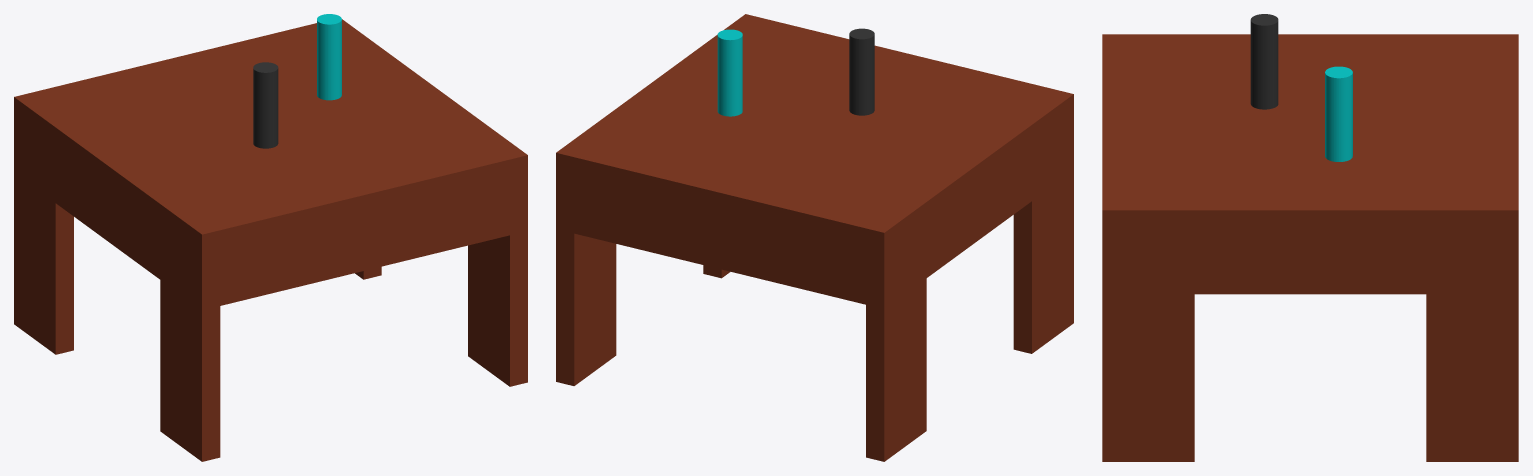
The model's file is can_world_2_cans.dae.
3 views of the same model, side by side, from view 1: azimuth 30°, elevation 25°; view 2: azimuth 150°, elevation 25°; view 3: azimuth 270°, elevation 25° (orthographic). The views are drawn at different scales.
Visible parts, largest first — view 1: base (×6); view 2: base (×6); view 3: base (×5).
Boxes of the visible parts, bbox=[...] form: base (×6): bbox=[14, 14, 527, 461]; base (×6): bbox=[556, 14, 1073, 461]; base (×5): bbox=[1102, 14, 1518, 461].
Bounding box in the file's own units: 0.9 × 0.9 × 0.811.
